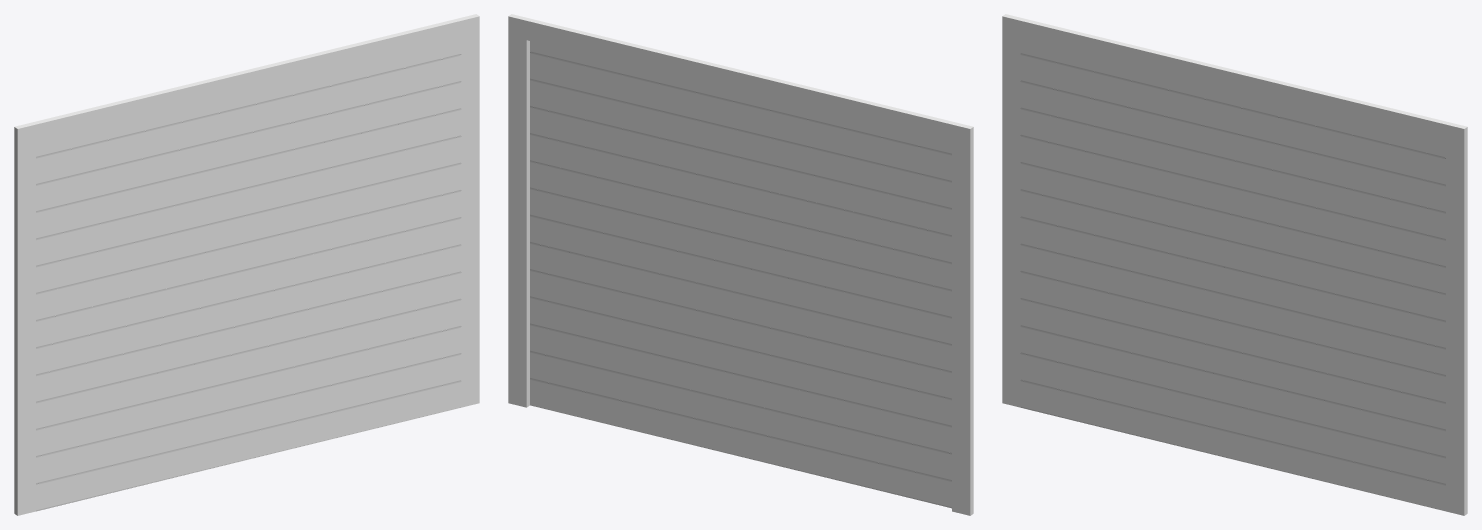
The model's file is full_gateoldtwo.gltf.
3 renders of one model, left to right at view 1: azimuth 30°, elevation 25°; view 2: azimuth 150°, elevation 25°; view 3: azimuth 330°, elevation 25°, orthographic.
Visible parts, largest first — view 1: 3DGeom-1, 3DGeom-2; view 2: 3DGeom-1, 3DGeom-2; view 3: 3DGeom-1, 3DGeom-2.
Part boxes in pixels (x1,y1,x2,y2): 3DGeom-1: (36, 40, 461, 511); 3DGeom-2: (14, 14, 479, 515); 3DGeom-1: (530, 41, 951, 508); 3DGeom-2: (508, 14, 973, 515); 3DGeom-1: (1020, 40, 1445, 511); 3DGeom-2: (1002, 14, 1467, 515).
Bounding box in the file's own units: 2.5 × 2 × 0.03.
Materials: 2 (1 with a texture image).
